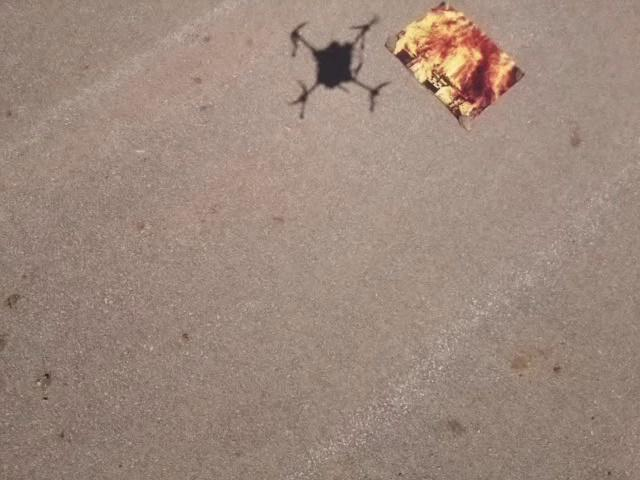fire-poster: (384, 0, 526, 132)
